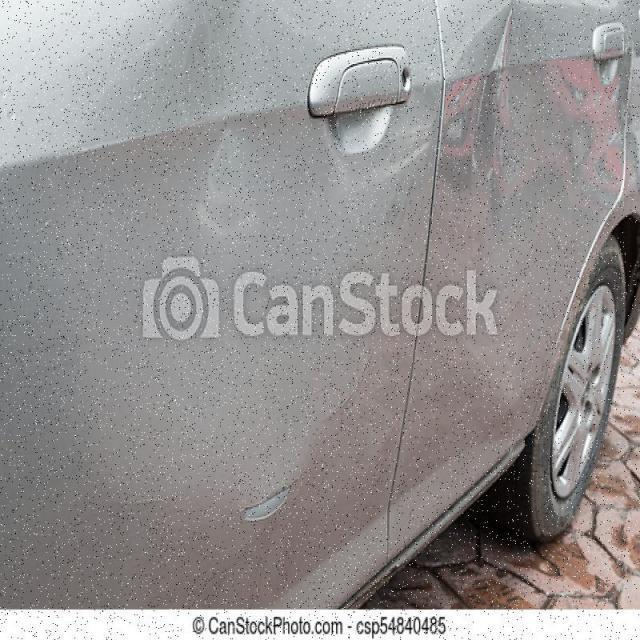dent: (98, 4, 358, 471), (452, 0, 587, 195)
